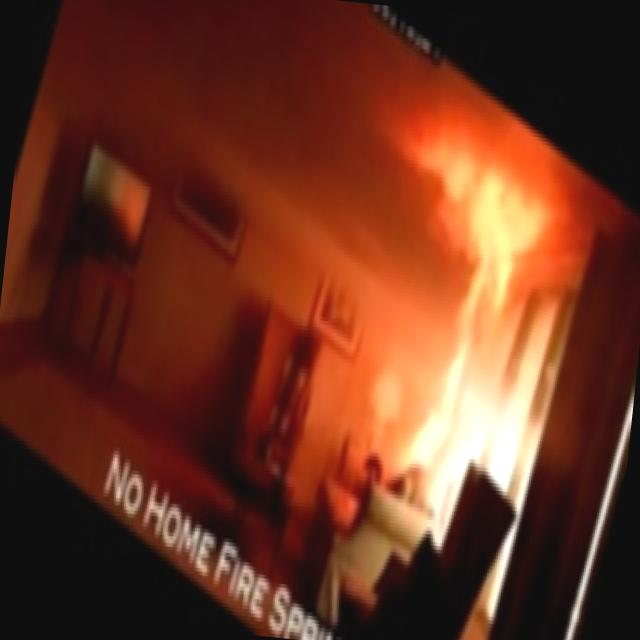fire: (282, 20, 605, 603)
